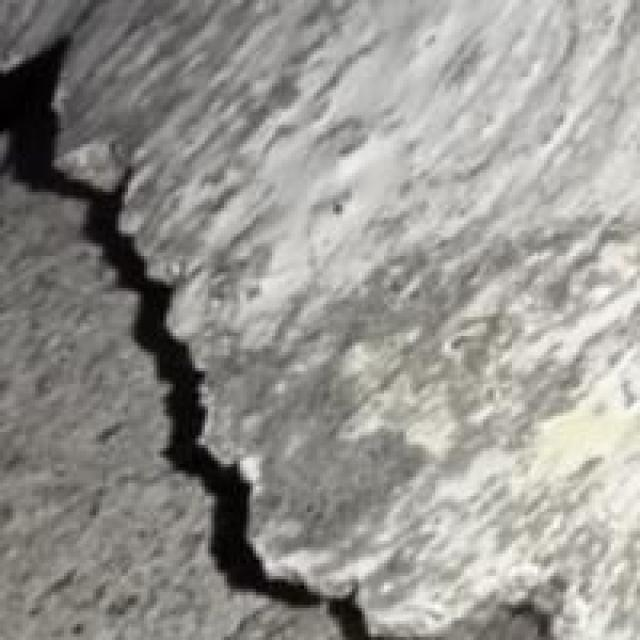crack: (0, 48, 403, 637)
